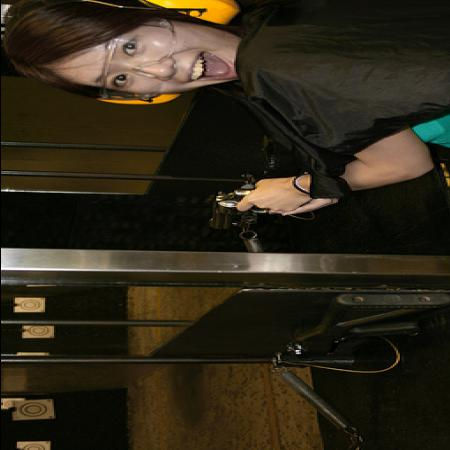Pistol: (201, 186, 279, 228)
